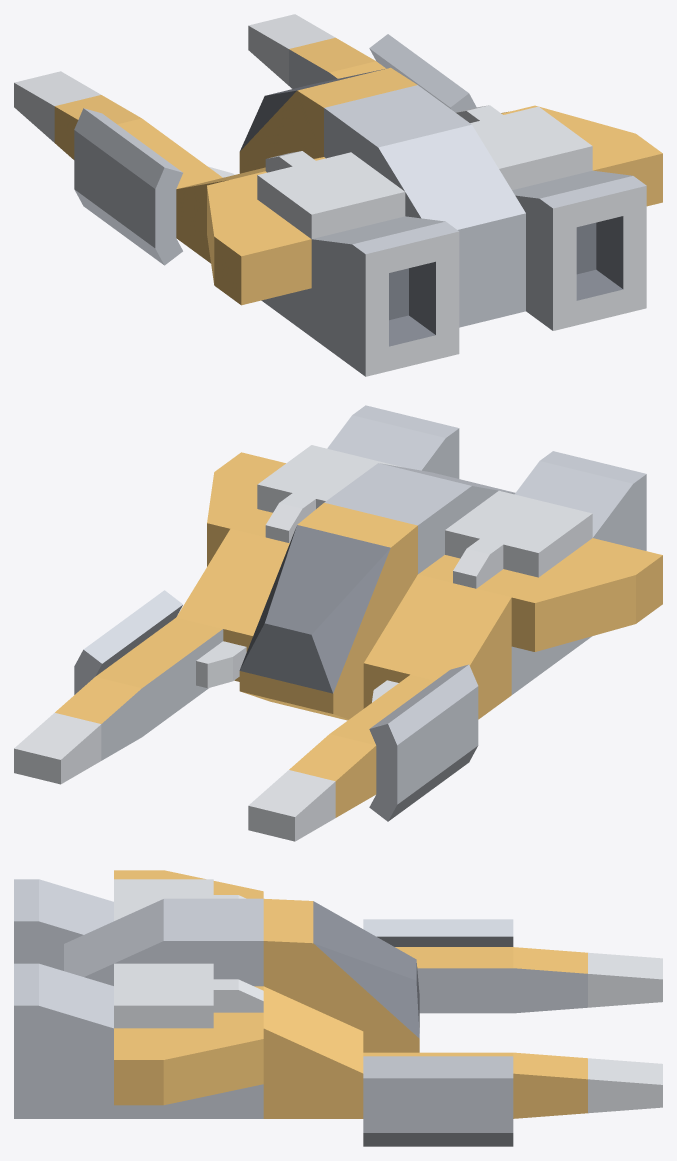
File: craft_miner.glb
3 renders of one model, top to bottom at view 1: azimuth 30°, elevation 25°; view 2: azimuth 150°, elevation 25°; view 3: azimuth 270°, elevation 25°, orthographic. The views are drawn at different scales.
Visible parts, largest first — view 1: craft_miner; view 2: craft_miner; view 3: craft_miner.
Boxes of the visible parts, bbox=[...] form: craft_miner: bbox=[14, 14, 662, 376]; craft_miner: bbox=[14, 405, 662, 841]; craft_miner: bbox=[14, 870, 662, 1146].
Bounding box in the file's own units: 1.8 × 0.7 × 2.6.
Materials: 1 (1 with a texture image).
